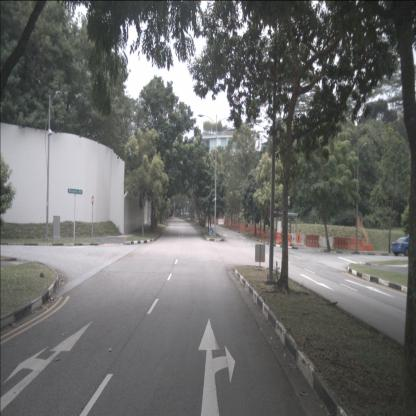movable_object-barrier: (305, 234, 320, 248), (319, 234, 333, 249), (333, 237, 349, 249), (349, 238, 363, 250), (292, 233, 304, 247), (281, 233, 292, 246), (275, 233, 283, 244), (362, 244, 374, 251), (218, 218, 224, 226)
vehicle-car: (391, 235, 415, 258)
